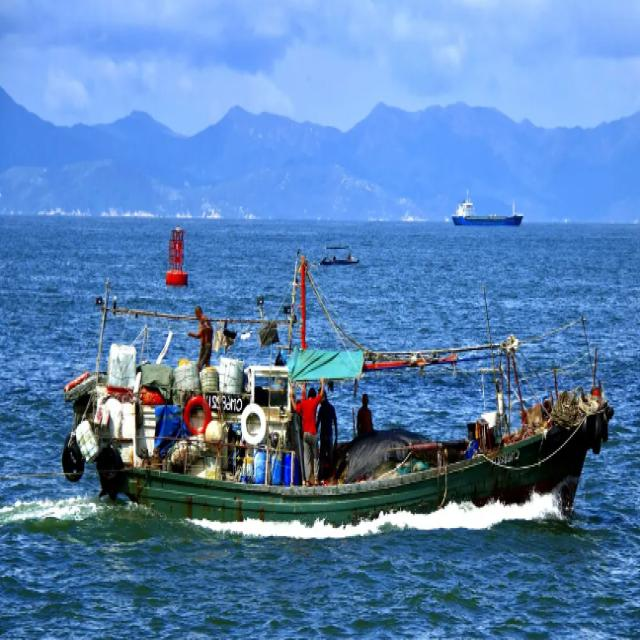cargoship: (448, 191, 527, 227)
fishing boat: (63, 272, 618, 528), (307, 229, 360, 268)
